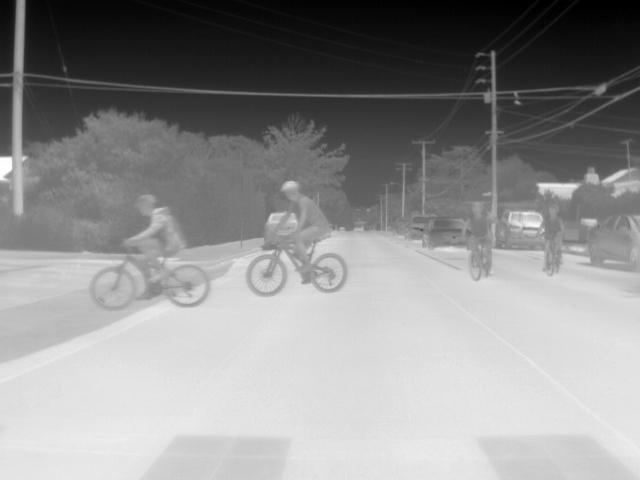car: (588, 213, 639, 268), (496, 208, 546, 250), (422, 218, 468, 250), (260, 212, 288, 248), (404, 213, 434, 242), (280, 213, 299, 243)
person: (123, 191, 189, 301), (277, 179, 331, 282), (467, 203, 494, 274), (539, 207, 566, 269)
